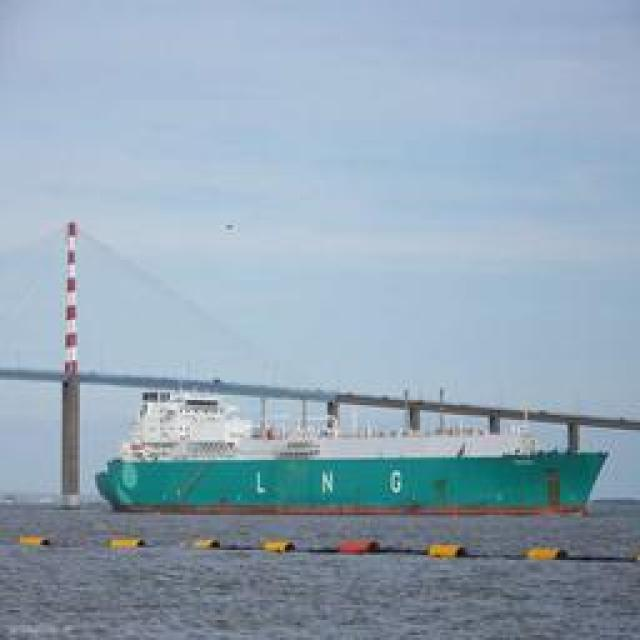CIV_Ship: (94, 398, 604, 518)
